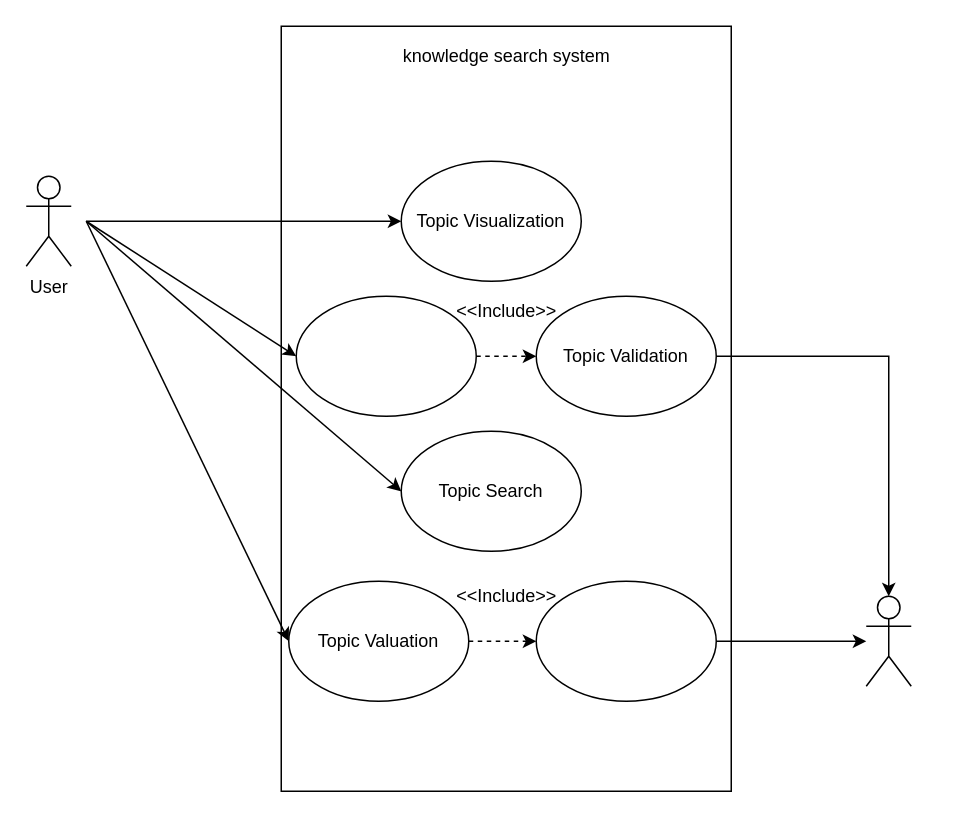
Some shapes in this 971 by 818 pixel diagram are drawn without their labels. Each missing label, with the box of its shape:
Administrator: (865, 595, 911, 686)
Topic creation: (295, 295, 476, 416)
Topic report generation: (535, 580, 716, 701)
